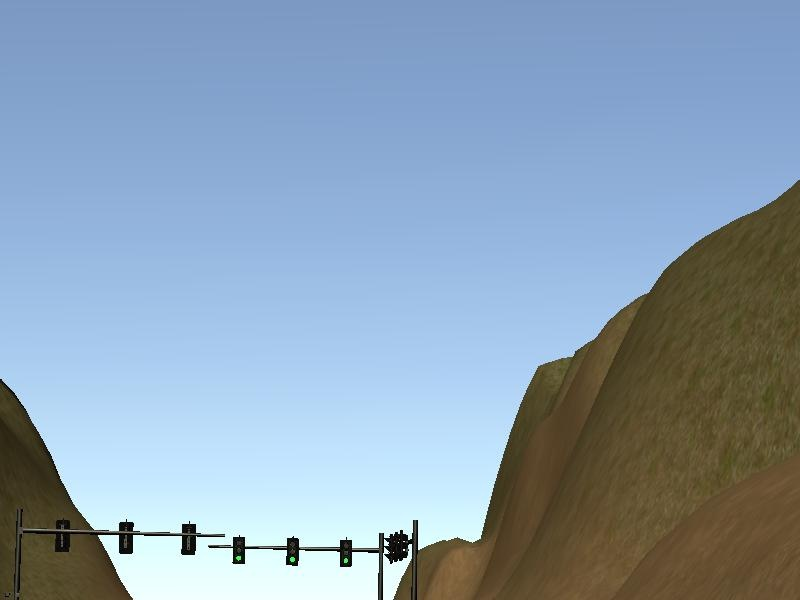green: (285, 537, 300, 565), (232, 537, 245, 565), (340, 540, 352, 568)
